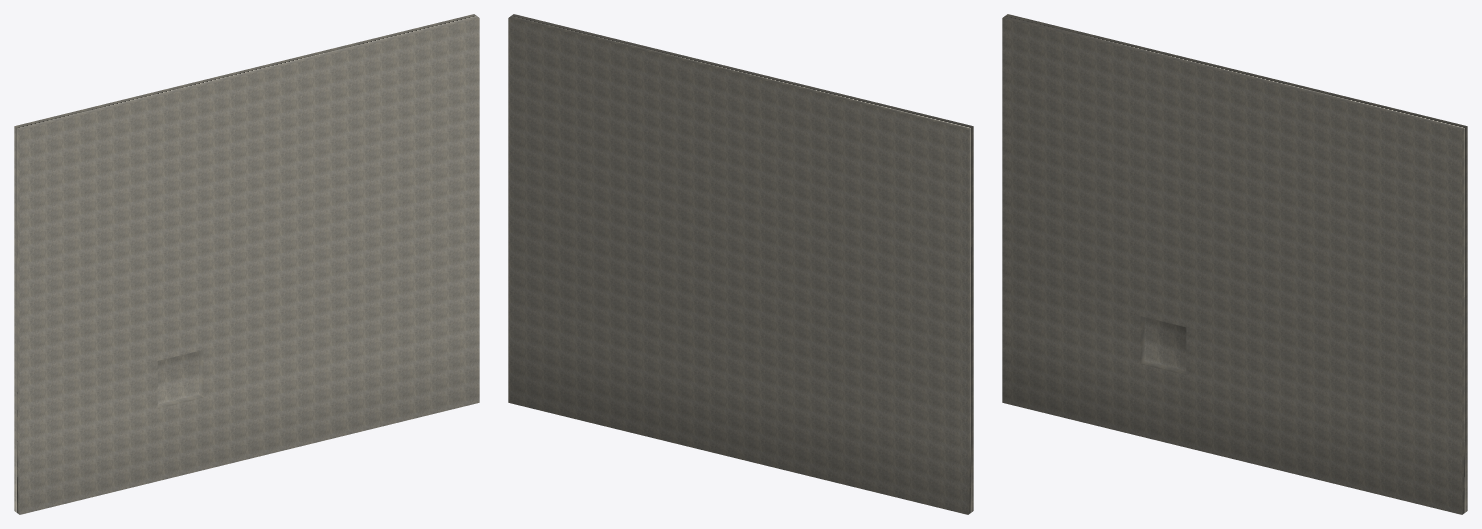
Rendered from ground.DAE.
The picture shows the model from 3 angles, left to right: view 1: azimuth 30°, elevation 25°; view 2: azimuth 150°, elevation 25°; view 3: azimuth 330°, elevation 25°; orthographic projection.
Visible parts, largest first — view 1: adventureplaygound01a; view 2: adventureplaygound01a; view 3: adventureplaygound01a.
Part boxes in pixels (x1,y1,x2,y2): adventureplaygound01a: [14, 14, 479, 514]; adventureplaygound01a: [508, 14, 973, 514]; adventureplaygound01a: [1002, 14, 1467, 514].
Bounding box in the file's own units: 1969 × 1575 × 39.37.
